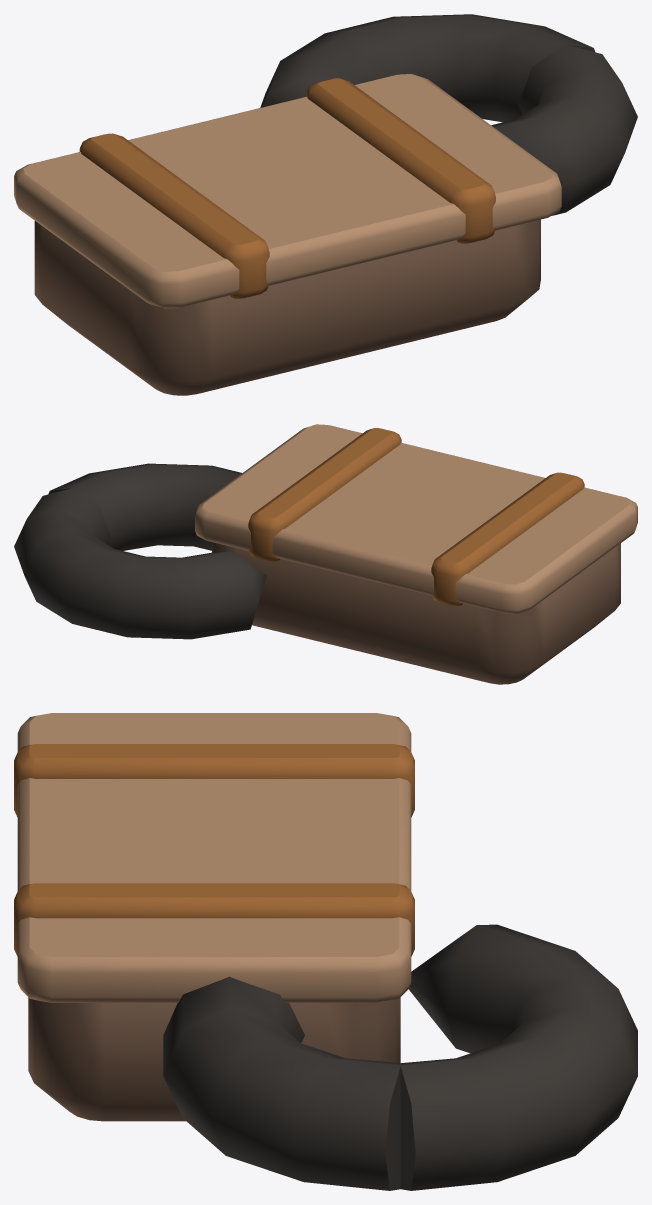
Rendered from truck_kit.glb.
The picture shows the model from 3 angles, top to bottom: view 1: azimuth 30°, elevation 25°; view 2: azimuth 150°, elevation 25°; view 3: azimuth 270°, elevation 25°; orthographic projection. The views are drawn at different scales.
Parts seen in each view (by area): view 1: TruckKit; view 2: TruckKit; view 3: TruckKit.
Part boxes in pixels (x1,y1,x2,y2): TruckKit: (14,14,637,395); TruckKit: (14,424,637,684); TruckKit: (14,713,637,1190).
Bounding box in the file's own units: 1.23 × 0.297 × 0.8715.
